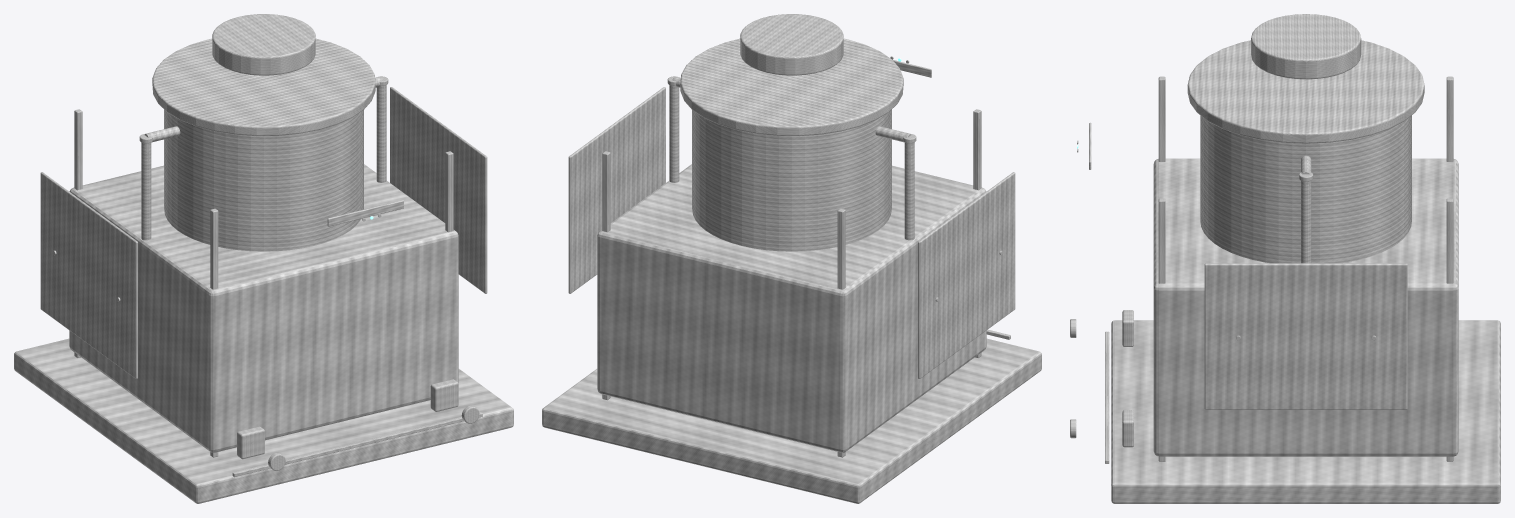
The model's file is blender_variant_d.glb.
The picture shows the model from 3 angles, left to right: view 1: azimuth 30°, elevation 25°; view 2: azimuth 150°, elevation 25°; view 3: azimuth 270°, elevation 25°; orthographic projection. The views are drawn at different scales.
Visible parts, largest first — view 1: Mixer lower cabinet.003, Foundation skid.003, Mixing vessel.003, Vessel lid.003, Side access panel.006, Side access panel.007, Mixer motor.003, Amber safety sill, Process pipe.009, Process pipe.011, Input output port.007, Input output port.006 (+4 smaller); view 2: Mixer lower cabinet.003, Foundation skid.003, Mixing vessel.003, Vessel lid.003, Side access panel.006, Side access panel.007, Mixer motor.003, Process pipe.009, Process pipe.011, Corner protective upright.014, Corner protective upright, Corner protective upright.013; view 3: Mixer lower cabinet.003, Side access panel.007, Foundation skid.003, Mixing vessel.003, Vessel lid.003, Mixer motor.003, Process pipe.011, Corner protective upright.015, Corner protective upright, Corner protective upright.014, Corner protective upright.013, Amber safety sill.
Part boxes in pixels (x1=…): Mixer lower cabinet.003: x1=69, y1=164, x2=458, y2=452; Foundation skid.003: x1=14, y1=338, x2=513, y2=503; Mixing vessel.003: x1=164, y1=109, x2=363, y2=251; Vessel lid.003: x1=152, y1=38, x2=375, y2=135; Side access panel.006: x1=40, y1=172, x2=137, y2=378; Side access panel.007: x1=390, y1=87, x2=487, y2=293; Mixer motor.003: x1=212, y1=14, x2=315, y2=75; Amber safety sill: x1=232, y1=412, x2=482, y2=477; Process pipe.009: x1=141, y1=142, x2=151, y2=240; Process pipe.011: x1=376, y1=85, x2=386, y2=182; Input output port.007: x1=430, y1=379, x2=458, y2=411; Input output port.006: x1=237, y1=426, x2=264, y2=459; Mixer lower cabinet.003: x1=597, y1=164, x2=986, y2=452; Foundation skid.003: x1=542, y1=338, x2=1041, y2=503; Mixing vessel.003: x1=692, y1=109, x2=891, y2=251; Vessel lid.003: x1=680, y1=38, x2=903, y2=135; Side access panel.006: x1=918, y1=172, x2=1015, y2=378; Side access panel.007: x1=568, y1=87, x2=665, y2=293; Mixer motor.003: x1=740, y1=14, x2=843, y2=75; Process pipe.009: x1=904, y1=142, x2=914, y2=240; Process pipe.011: x1=669, y1=85, x2=679, y2=182; Corner protective upright.014: x1=837, y1=208, x2=845, y2=457; Corner protective upright: x1=602, y1=151, x2=610, y2=400; Corner protective upright.013: x1=973, y1=109, x2=981, y2=357; Mixer lower cabinet.003: x1=1153, y1=158, x2=1458, y2=456; Side access panel.007: x1=1204, y1=263, x2=1407, y2=409; Foundation skid.003: x1=1111, y1=320, x2=1500, y2=503; Mixing vessel.003: x1=1200, y1=115, x2=1411, y2=263; Vessel lid.003: x1=1187, y1=40, x2=1424, y2=143; Mixer motor.003: x1=1251, y1=14, x2=1361, y2=79; Process pipe.011: x1=1301, y1=181, x2=1311, y2=263; Corner protective upright.015: x1=1158, y1=198, x2=1165, y2=461; Corner protective upright: x1=1446, y1=198, x2=1453, y2=461; Corner protective upright.014: x1=1446, y1=76, x2=1453, y2=161; Corner protective upright.013: x1=1158, y1=76, x2=1165, y2=161; Amber safety sill: x1=1105, y1=331, x2=1109, y2=463.
Size of what is drawn, in the model's own units: 8.24 by 8.05 by 8.14.
Materials: 6 (6 with a texture image).
